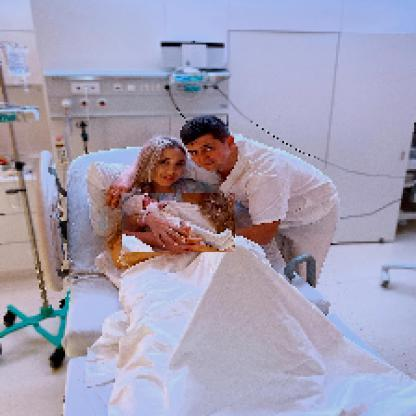child: (123, 194, 237, 254)
